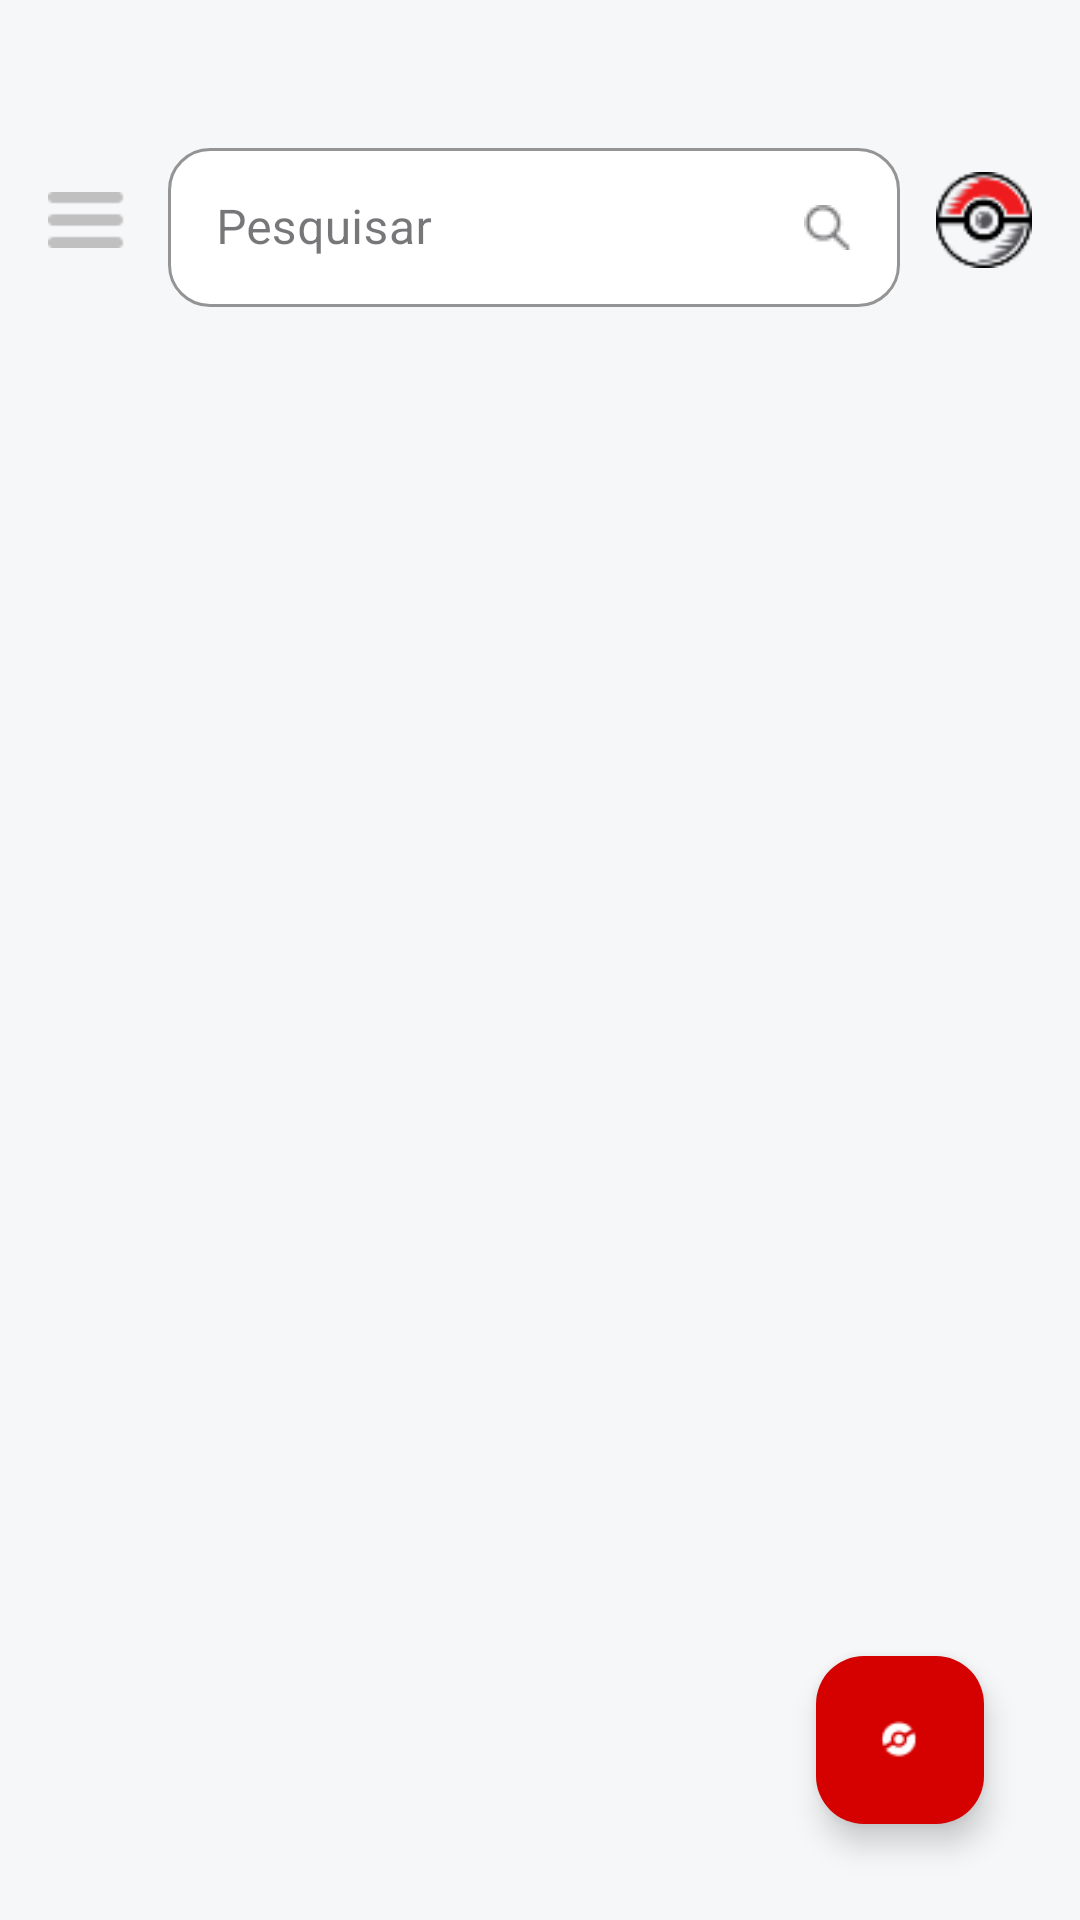

Screen size 1080×1920. Icon name, then its box in pixels as (x1, y1, x2, y2):
Menu: (48, 192, 123, 248)
